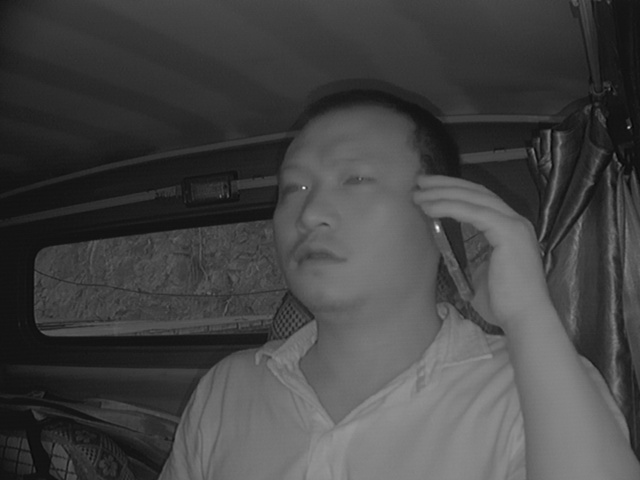hand: (410, 170, 532, 331)
